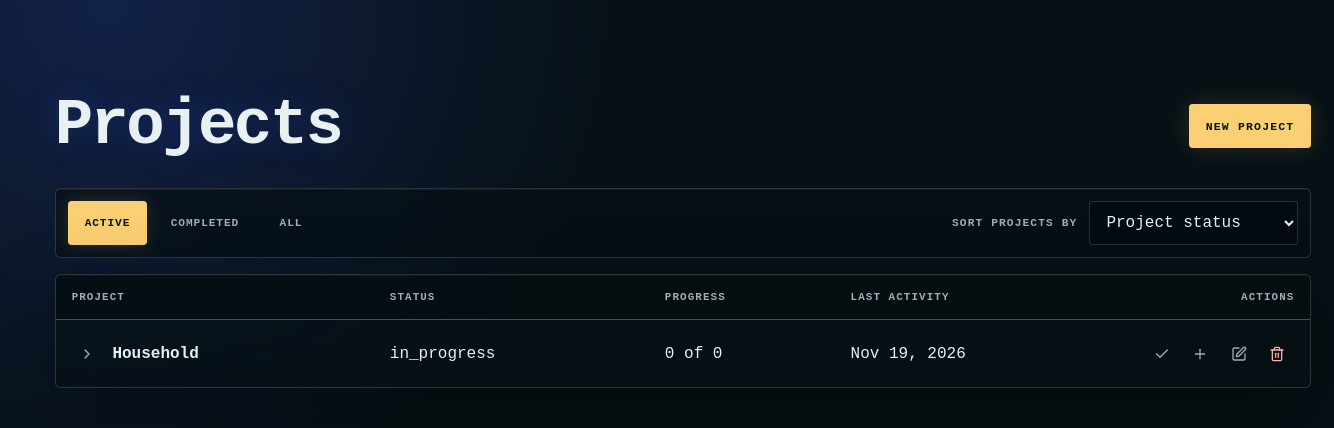
Scenario: DashboardPage project synchronization › removes a deleted project even when background reconciliation fails
Expected: the text "Household" is shown, [112, 345, 199, 363]
Step 1. Click the button named "Delete Household" → (1277, 354), box [1260, 336, 1294, 371]
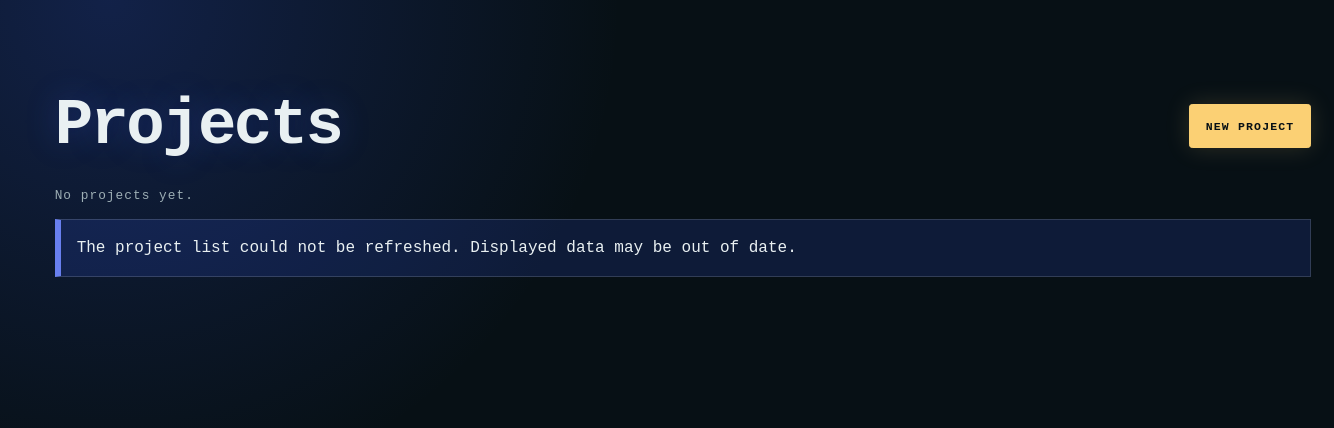
Now the text "No projects yet." is shown, box [55, 188, 194, 203]
Now the message reads "The project list could not be refreshed. Displayed data may be out of date.", box [77, 239, 797, 257]
